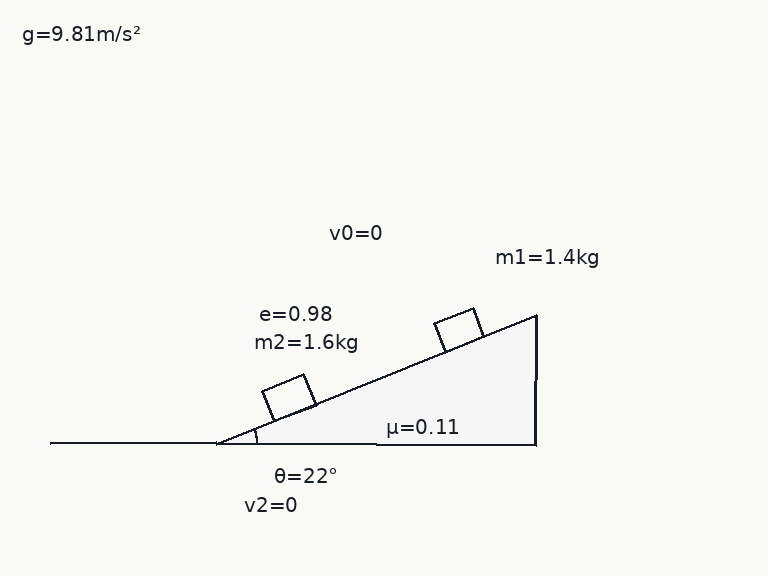block: (260, 372, 317, 423), (432, 306, 486, 354)
ramp: (215, 313, 538, 446)
